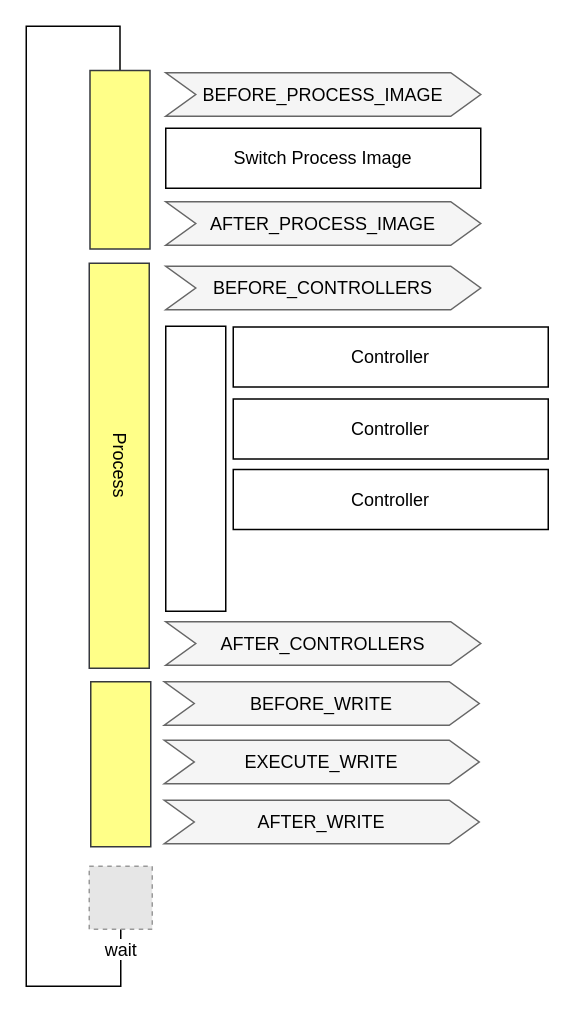
Image size: 575x1014. Some labels were removed from this diagram. Grey dashed boxes stand in for pictures. The centre of each missing label's shape, as x and y in pixels:
"Input" belongs at point (119, 159).
"Output" belongs at point (120, 763).
"Scheduler" belongs at point (195, 468).
